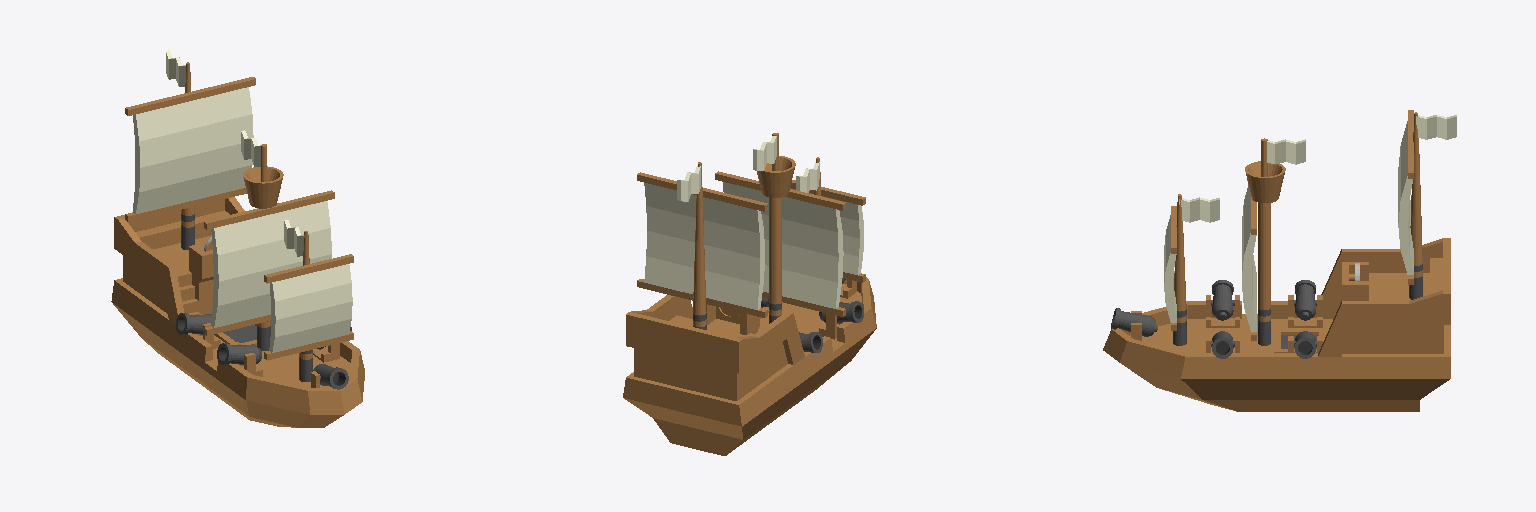
The model's file is watercraftPack_007.obj.
3 renders of one model, left to right at view 1: azimuth 30°, elevation 25°; view 2: azimuth 150°, elevation 25°; view 3: azimuth 270°, elevation 25°, orthographic.
Visible parts, largest first — view 1: Mesh22 Group12 Group1 Model, Mesh15 Group17 Group12 Group1 Model, Mesh12 Group14 Group12 Group1 Model, Mesh19 Group21 Group12 Group1 Model, Mesh16 Group18 Group12 Group1 Model, Mesh7 Group8 Cannon_right_1 Group1 Model, Mesh14 Group16 Group12 Group1 Model, Mesh9 Group10 Cannon_right_2 Group1 Model, Mesh5 Group6 Cannon_front Group1 Model, Mesh13 Group15 Group12 Group1 Model, Mesh20 Group22 Group12 Group1 Model; view 2: Mesh22 Group12 Group1 Model, Mesh15 Group17 Group12 Group1 Model, Mesh12 Group14 Group12 Group1 Model, Mesh19 Group21 Group12 Group1 Model, Mesh13 Group15 Group12 Group1 Model, Mesh14 Group16 Group12 Group1 Model, Mesh16 Group18 Group12 Group1 Model, Mesh18 Group20 Group12 Group1 Model, Mesh17 Group19 Group12 Group1 Model; view 3: Mesh22 Group12 Group1 Model, Mesh13 Group15 Group12 Group1 Model, Mesh15 Group17 Group12 Group1 Model, Mesh12 Group14 Group12 Group1 Model, Mesh14 Group16 Group12 Group1 Model, Mesh20 Group22 Group12 Group1 Model, Mesh16 Group18 Group12 Group1 Model, Mesh19 Group21 Group12 Group1 Model, Mesh18 Group20 Group12 Group1 Model, Mesh17 Group19 Group12 Group1 Model, Mesh21 Group23 Group12 Group1 Model, Mesh7 Group8 Cannon_right_1 Group1 Model (+4 smaller).
Boxes of the visible parts, x1=… form: Mesh22 Group12 Group1 Model: x1=111, y1=197, x2=364, y2=427; Mesh15 Group17 Group12 Group1 Model: x1=125, y1=77, x2=255, y2=222; Mesh12 Group14 Group12 Group1 Model: x1=204, y1=190, x2=334, y2=335; Mesh19 Group21 Group12 Group1 Model: x1=264, y1=254, x2=353, y2=360; Mesh16 Group18 Group12 Group1 Model: x1=243, y1=166, x2=283, y2=208; Mesh7 Group8 Cannon_right_1 Group1 Model: x1=217, y1=343, x2=261, y2=364; Mesh14 Group16 Group12 Group1 Model: x1=181, y1=62, x2=194, y2=249; Mesh9 Group10 Cannon_right_2 Group1 Model: x1=176, y1=313, x2=214, y2=334; Mesh5 Group6 Cannon_front Group1 Model: x1=313, y1=364, x2=348, y2=389; Mesh13 Group15 Group12 Group1 Model: x1=257, y1=144, x2=270, y2=350; Mesh20 Group22 Group12 Group1 Model: x1=299, y1=231, x2=312, y2=381; Mesh22 Group12 Group1 Model: x1=623, y1=277, x2=876, y2=455; Mesh15 Group17 Group12 Group1 Model: x1=637, y1=172, x2=767, y2=317; Mesh12 Group14 Group12 Group1 Model: x1=715, y1=171, x2=845, y2=316; Mesh19 Group21 Group12 Group1 Model: x1=790, y1=180, x2=865, y2=282; Mesh13 Group15 Group12 Group1 Model: x1=769, y1=133, x2=781, y2=323; Mesh14 Group16 Group12 Group1 Model: x1=693, y1=162, x2=706, y2=329; Mesh16 Group18 Group12 Group1 Model: x1=757, y1=156, x2=795, y2=197; Mesh18 Group20 Group12 Group1 Model: x1=677, y1=165, x2=700, y2=201; Mesh17 Group19 Group12 Group1 Model: x1=753, y1=136, x2=776, y2=170; Mesh22 Group12 Group1 Model: x1=1103, y1=238, x2=1450, y2=411; Mesh13 Group15 Group12 Group1 Model: x1=1258, y1=138, x2=1270, y2=345; Mesh15 Group17 Group12 Group1 Model: x1=1398, y1=110, x2=1413, y2=284; Mesh12 Group14 Group12 Group1 Model: x1=1242, y1=185, x2=1256, y2=340; Mesh14 Group16 Group12 Group1 Model: x1=1409, y1=112, x2=1422, y2=299; Mesh20 Group22 Group12 Group1 Model: x1=1173, y1=194, x2=1186, y2=345; Mesh16 Group18 Group12 Group1 Model: x1=1245, y1=161, x2=1285, y2=202; Mesh19 Group21 Group12 Group1 Model: x1=1164, y1=206, x2=1176, y2=330; Mesh18 Group20 Group12 Group1 Model: x1=1416, y1=115, x2=1456, y2=139; Mesh17 Group19 Group12 Group1 Model: x1=1267, y1=139, x2=1305, y2=164; Mesh21 Group23 Group12 Group1 Model: x1=1179, y1=197, x2=1219, y2=222; Mesh7 Group8 Cannon_right_1 Group1 Model: x1=1212, y1=280, x2=1233, y2=320.
Size of the model in its own units: 3.77 by 8.01 by 9.